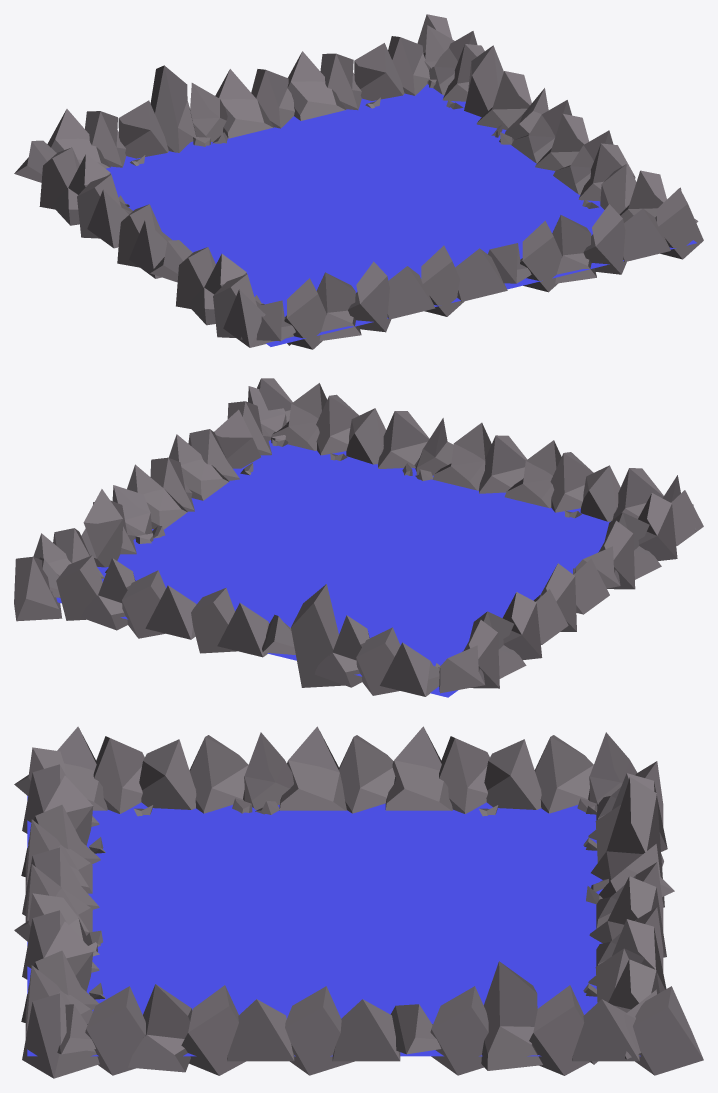
File: Ocean.glb
3 renders of one model, top to bottom at view 1: azimuth 30°, elevation 25°; view 2: azimuth 150°, elevation 25°; view 3: azimuth 270°, elevation 25°, orthographic. The views are drawn at different scales.
Visible parts, largest first — view 1: Cube, Plane; view 2: Cube, Plane; view 3: Cube, Plane.
Boxes of the visible parts, <box> form: Cube: <box>14,14,703,349</box>; Plane: <box>106,84,696,346</box>; Cube: <box>14,378,703,696</box>; Plane: <box>56,440,610,697</box>; Cube: <box>14,726,703,1078</box>; Plane: <box>27,796,640,1056</box>.
Size of the model in its own units: 177 by 35.21 by 178.
Materials: 2 (2 with a texture image).
